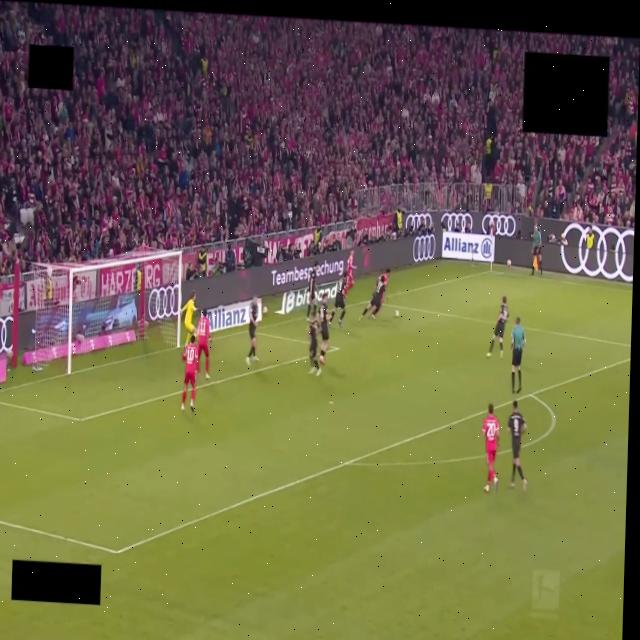ball: (395, 309, 400, 319)
player: (508, 401, 527, 488), (482, 404, 499, 493), (181, 335, 199, 411), (487, 296, 508, 357), (359, 275, 384, 320), (329, 271, 347, 326), (197, 309, 210, 379), (246, 297, 258, 365), (181, 292, 195, 344), (319, 293, 329, 364), (307, 260, 318, 320), (309, 320, 320, 374), (346, 250, 356, 293), (382, 268, 390, 303)
referee: (511, 318, 525, 393)
